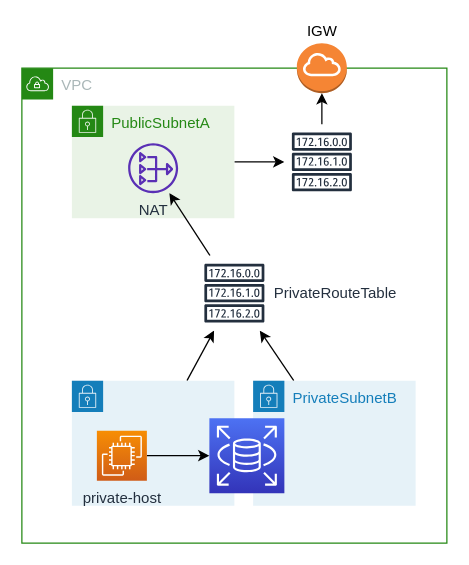
Image size: 469x565. Some labels were removed from this diagram. The shapes that lost their labels are listed below. From the top down, each one's box as (x1, y1, x2, y2) in pixels, then its label:
(283, 123, 359, 199): PublicRouteTable
(71, 379, 234, 506): PrivateSubnetA
(208, 417, 284, 493): private-db
